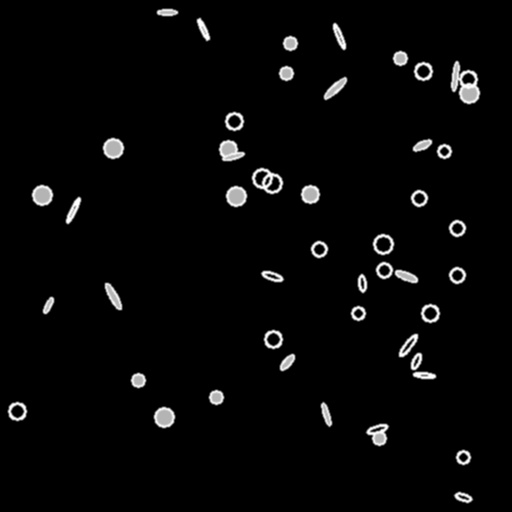pseudomonas: (322, 76, 348, 100), (397, 332, 419, 358), (104, 282, 122, 310), (331, 23, 347, 49), (65, 197, 81, 223), (278, 353, 296, 371), (395, 269, 417, 283), (261, 269, 283, 283), (196, 18, 210, 40), (320, 402, 332, 426), (412, 138, 432, 152), (366, 423, 388, 435), (451, 61, 459, 91), (410, 352, 422, 370), (223, 151, 243, 161), (42, 297, 54, 313), (454, 492, 472, 502), (358, 275, 366, 291), (414, 372, 434, 378), (158, 10, 176, 15)
synechocystis: (227, 187, 245, 205), (263, 174, 281, 192), (104, 139, 122, 157), (460, 84, 478, 102), (155, 408, 173, 426), (253, 169, 271, 187), (33, 186, 51, 204), (374, 235, 392, 253), (226, 113, 242, 129), (265, 331, 281, 347), (220, 141, 236, 157), (415, 63, 431, 79), (460, 71, 476, 87), (422, 305, 438, 321), (9, 403, 25, 419), (302, 186, 318, 202), (377, 263, 391, 277), (450, 221, 464, 235), (450, 268, 464, 282), (312, 242, 326, 256), (412, 191, 426, 205), (394, 52, 406, 64), (352, 307, 364, 319), (280, 67, 292, 79), (132, 374, 144, 386), (373, 432, 385, 444), (284, 37, 296, 49), (438, 145, 450, 157), (210, 391, 222, 403), (457, 451, 469, 463)
